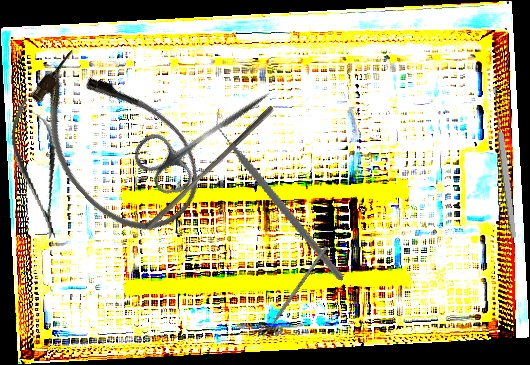Cannula: (6, 33, 222, 255)
Chopper: (178, 108, 383, 281)
Iris Scissors: (126, 63, 288, 204)
Micro Scissor: (2, 94, 73, 243)
Pusher: (144, 100, 275, 235), (258, 245, 329, 343)
Surgical Spoon: (490, 86, 519, 239)
